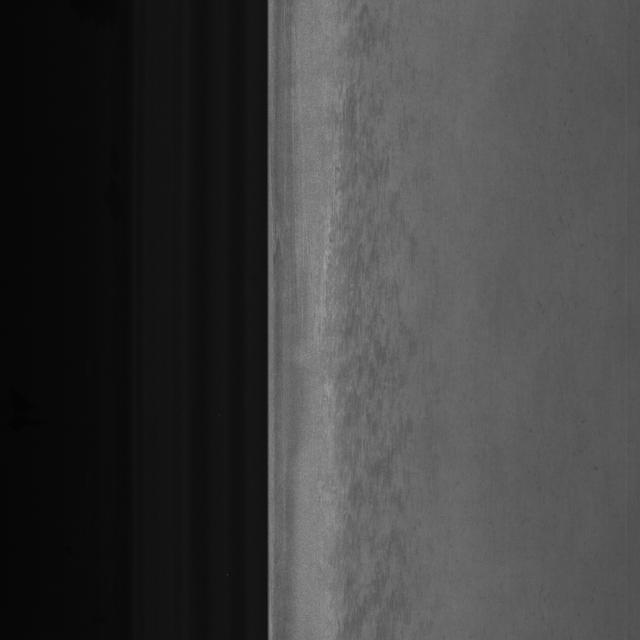inclusion: (328, 85, 424, 600)
